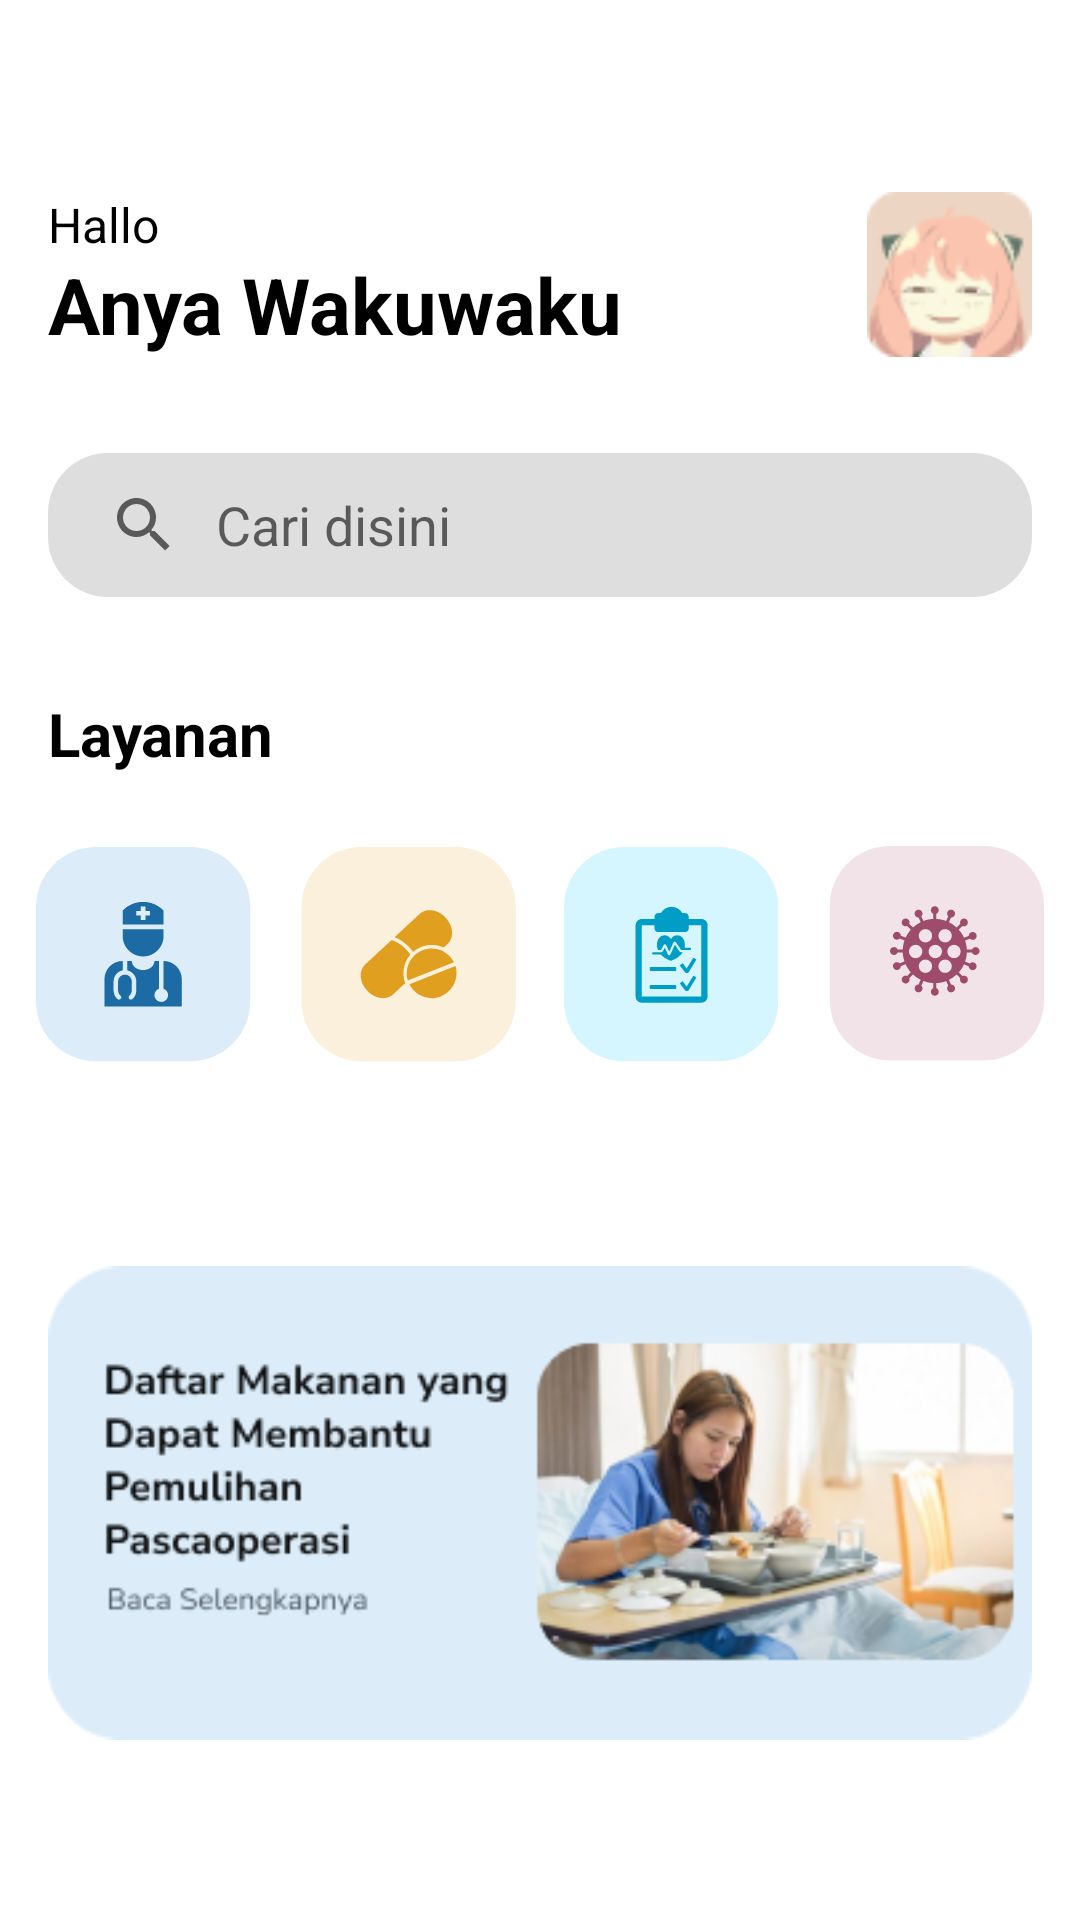

Icons on this 1080*1920 Android screen, each with the point to tap as [x,y]:
corona: [937,953]
dokter: [143,954]
note: [671,954]
obat: [409,954]
